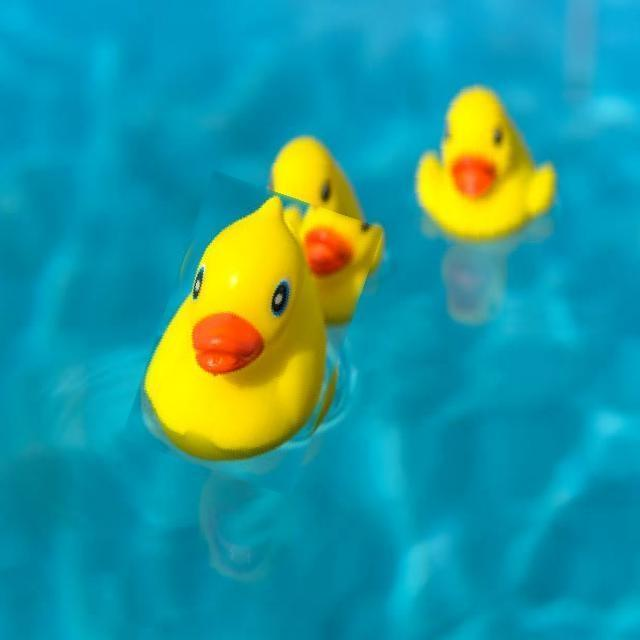rubber-duck: (143, 195, 332, 458), (416, 86, 553, 239), (270, 135, 382, 321)
